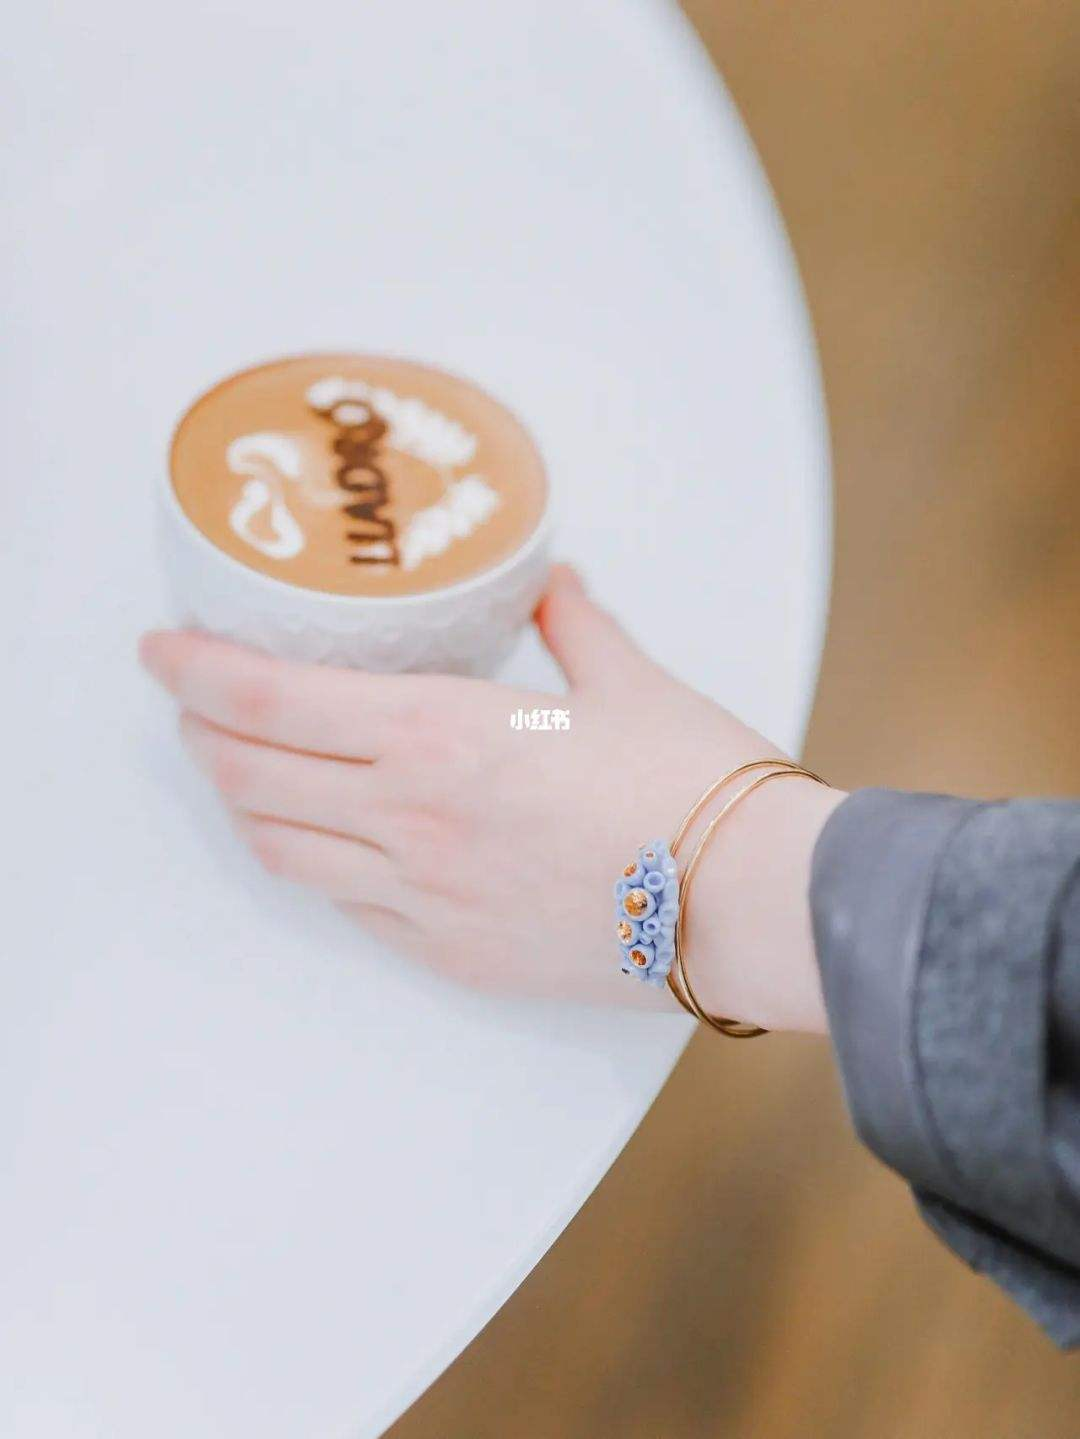no-phone: (116, 340, 821, 1059)
